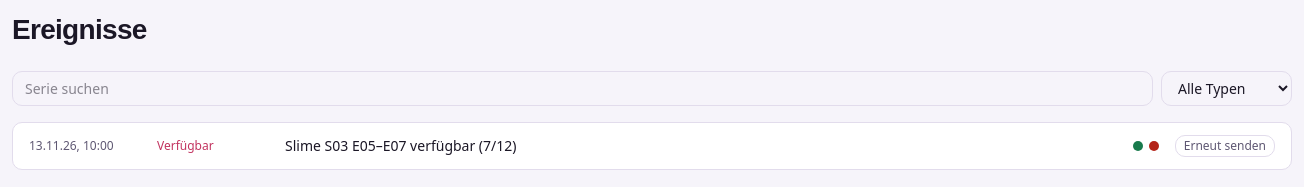
Test: resend queues the event again
Click the button "Erneut senden" at (1225, 146), box [1175,135,1275,157]
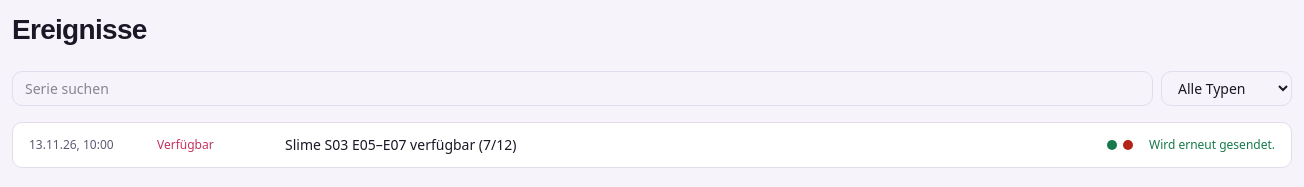
Expected: the text "Wird erneut gesendet." is shown, [1149,137,1275,153]
